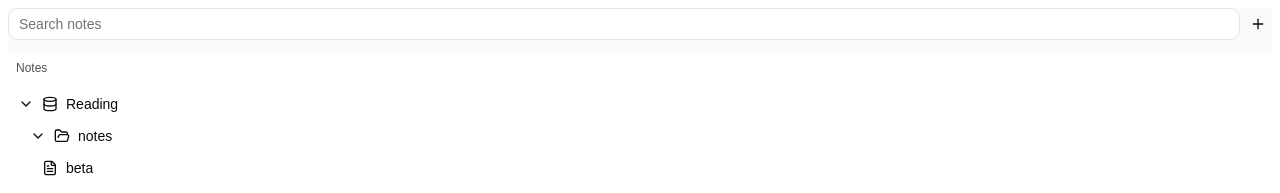
Test: NotesSidebar › keeps ancestors expanded while searching
Click the button "notes" at (95, 136), box x1=8 y1=120 x2=1272 y2=152
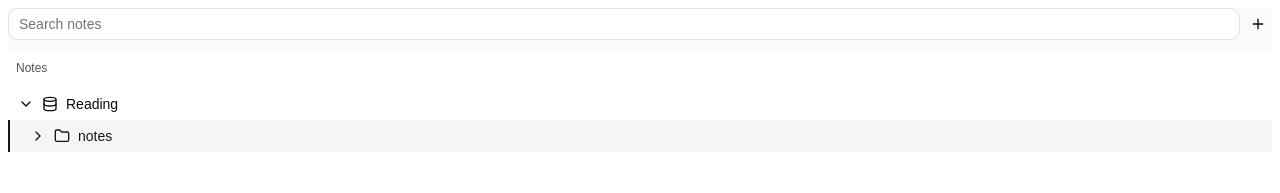
Type "beta" into the field labelled "Search notes" at (624, 24), box x1=8 y1=8 x2=1240 y2=40
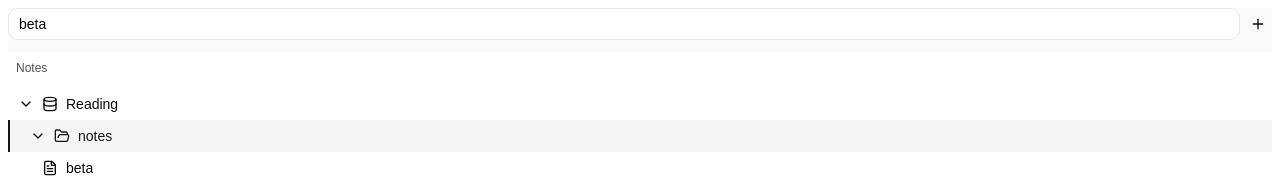
Check: the link "beta" is shown, box x1=42 y1=160 x2=93 y2=176
